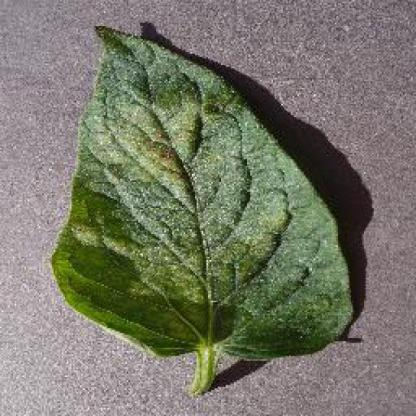Tomato_Spider_Mites: (54, 25, 353, 358)
